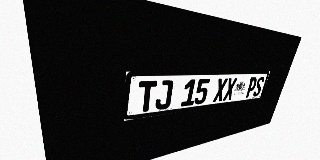1: (181, 79, 198, 107)
5: (194, 79, 210, 105)
J: (155, 80, 174, 110)
P: (245, 77, 258, 98)
S: (252, 77, 265, 97)
T: (137, 81, 157, 113)
X: (213, 78, 228, 102), (223, 78, 237, 101)
